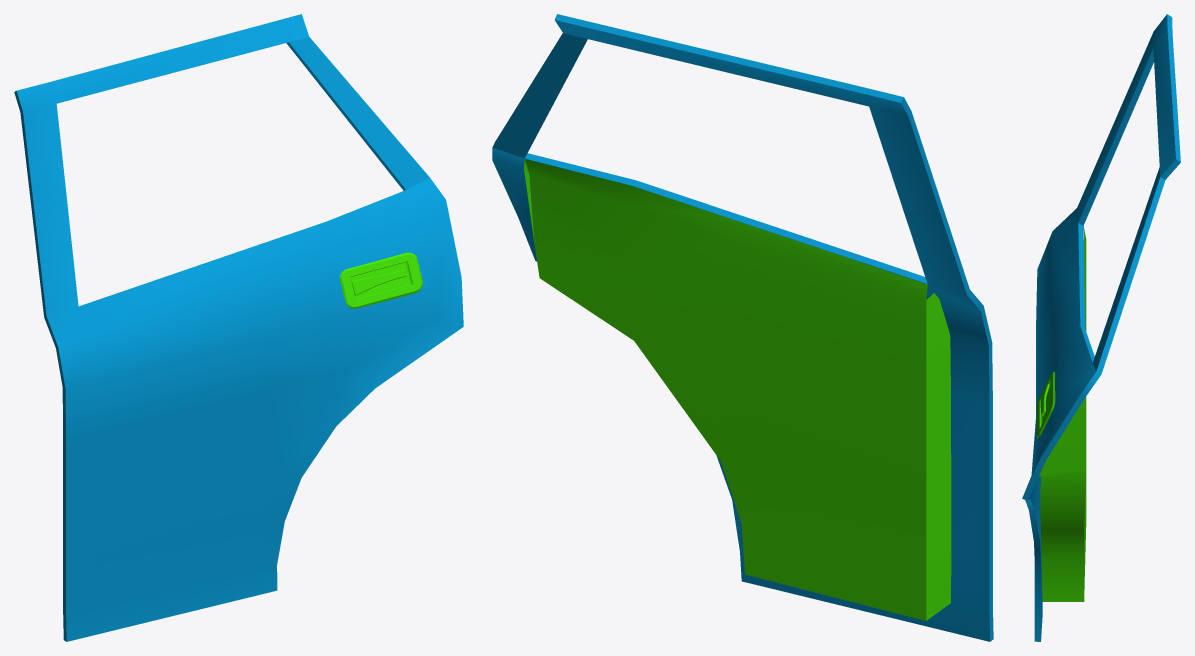
Rendered from Car_Door_02.fbx.
3 renders of one model, left to right at view 1: azimuth 30°, elevation 25°; view 2: azimuth 150°, elevation 25°; view 3: azimuth 270°, elevation 25°, orthographic. The views are drawn at different scales.
Parts seen in each view (by area): view 1: Car_Door_02; view 2: Car_Door_02; view 3: Car_Door_02.
Part boxes in pixels (x1,y1,x2,y2): Car_Door_02: (14,14,463,641); Car_Door_02: (492,14,993,641); Car_Door_02: (1022,14,1180,641).
Size of the model in its own units: 105 by 126 by 34.3.
